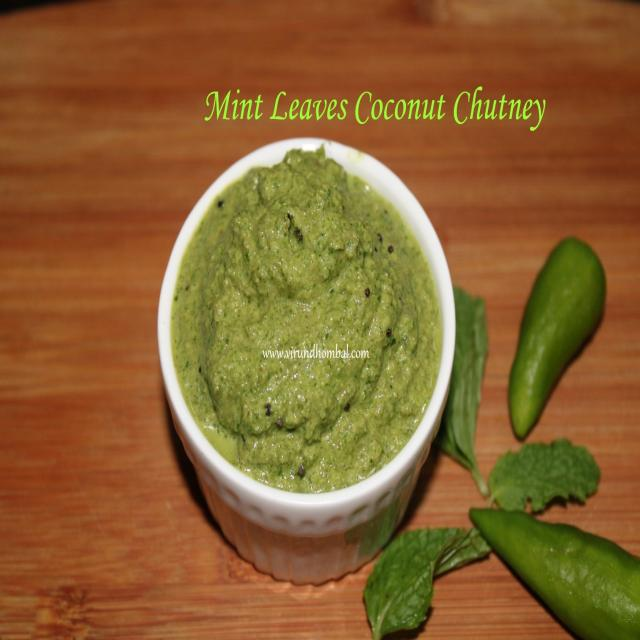puthina chutney: (161, 143, 435, 513)
